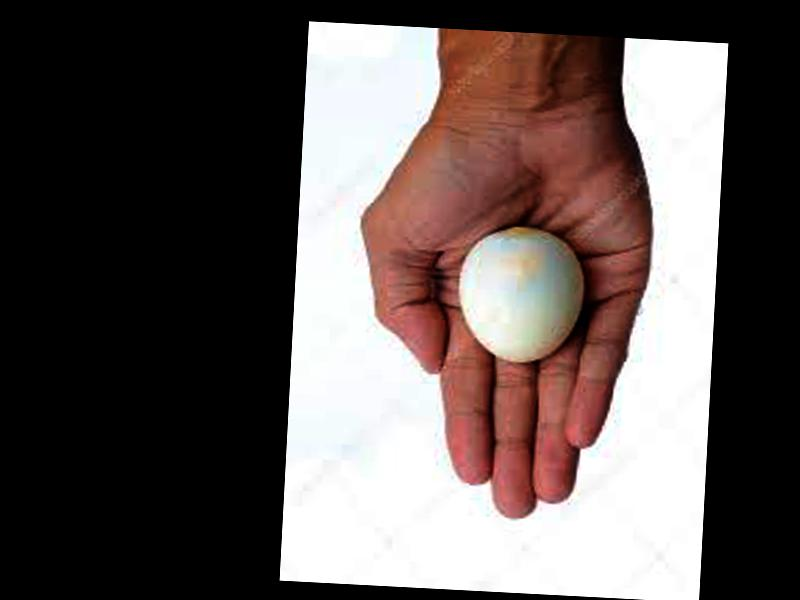Eggs: (457, 224, 584, 367)
